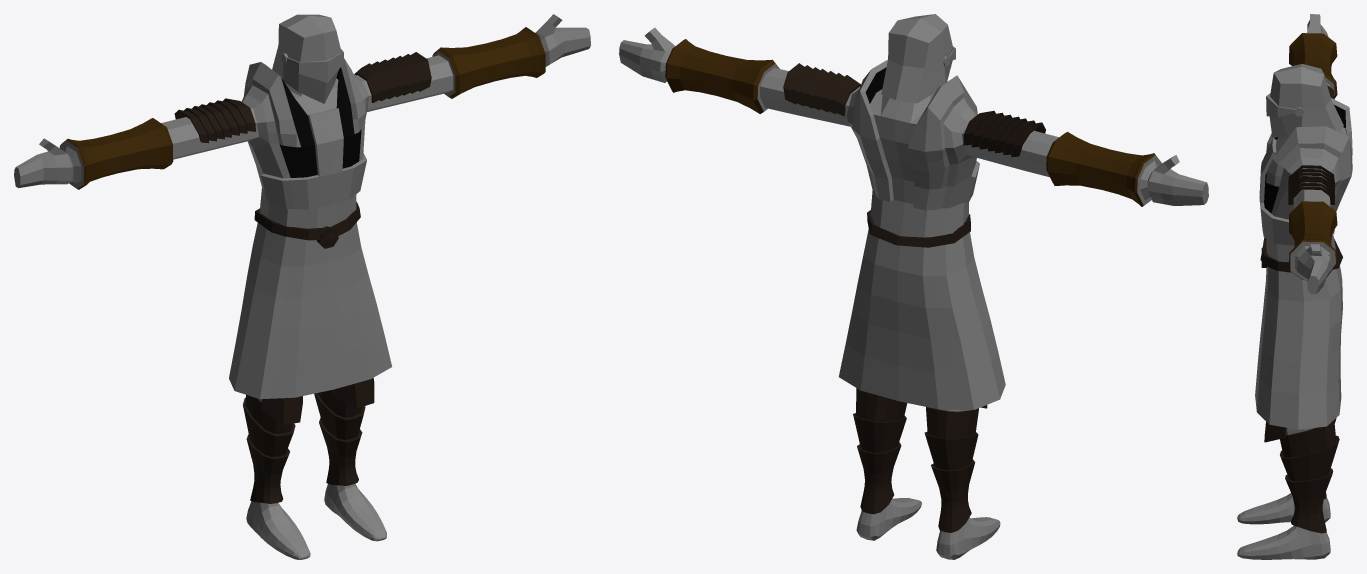
File: knight_Still.fbx
3 views of the same model, side by side, from view 1: azimuth 30°, elevation 25°; view 2: azimuth 150°, elevation 25°; view 3: azimuth 270°, elevation 25° (orthographic). The views are drawn at different scales.
Visible parts, largest first — view 1: Cube, Helmet.001; view 2: Cube, Helmet.001; view 3: Cube, Helmet.001.
Part boxes in pixels (<box>): Cube: <box>14,14,590,559</box>; Helmet.001: <box>272,14,343,103</box>; Cube: <box>619,27,1208,559</box>; Helmet.001: <box>881,14,955,103</box>; Cube: <box>1237,14,1352,559</box>; Helmet.001: <box>1266,64,1343,137</box>.
Bounding box in the file's own units: 207 × 177 × 39.19.
